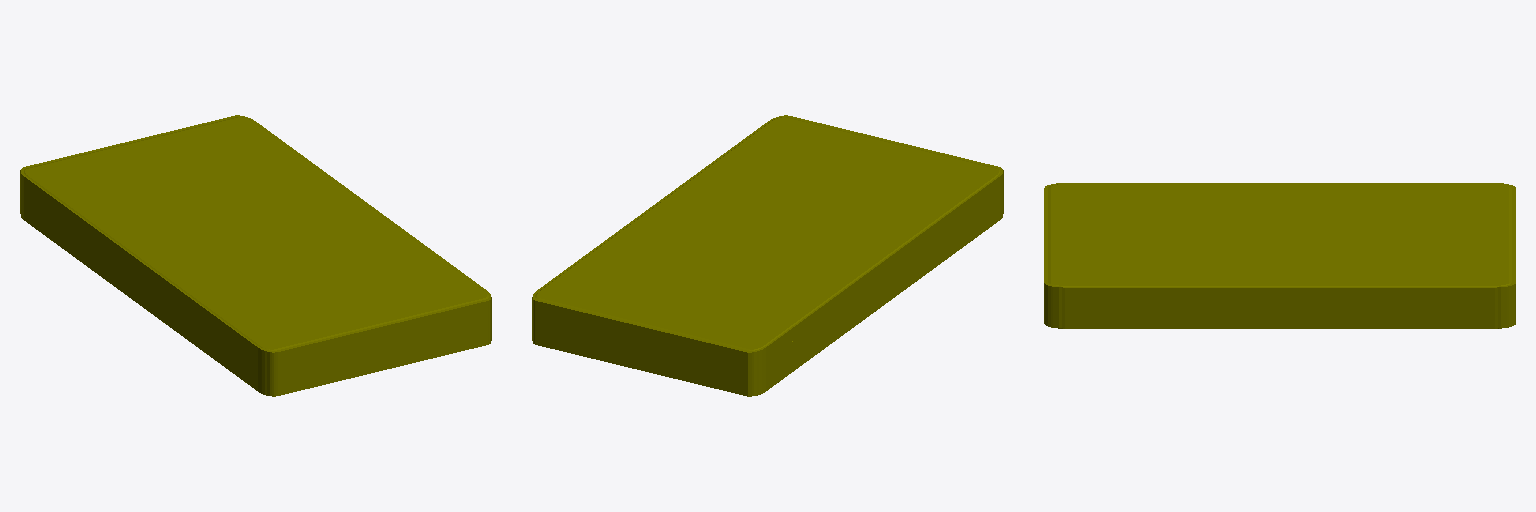
robot.urdf — sponge:
<robot name="sponge">
<link name="baseLink">
    <contact>
        <lateral_friction value="1.0"/>
        <rolling_friction value="0.0"/>
        <contact_cfm value="0.0"/>
        <contact_erp value="1.0"/>
    </contact>
    <inertial>
        <origin rpy="0.0 0.0 0.0" xyz="0.0 0.0 0.0"/>
        <mass value="0.2"/>
        <inertia ixx="1.0" ixy="0.0" ixz="0.0" iyy="1.0" iyz="0.0" izz="1.0"/>
    </inertial>
    <visual>
        <origin rpy="0.0 0.0 0.0" xyz="0.0 0.0 0.0"/>
        <geometry>
            <mesh filename="sponge.obj" scale="1.0 1.0 1.0"/>
        </geometry>
        <material name="red">
            <color rgba="0.5 0.5 0.0 1.0"/>
        </material>
    </visual>
    <collision>
        <origin rpy="0.0 0.0 0.0" xyz="0.0 0.0 0.0"/>
        <geometry>
            <mesh filename="sponge_vhacd.obj" scale="1.0 1.0 1.0"/>
        </geometry>
    </collision>
</link>
</robot>

--- What the picture shows (computed from the rendered views, not written in the file) ---
The picture shows the robot from 3 angles, left to right: view 1: azimuth 30°, elevation 25°; view 2: azimuth 150°, elevation 25°; view 3: azimuth 270°, elevation 25°; orthographic projection.
Model sponge with 1 links and 0 joints (none), rooted at baseLink, posed every joint at zero.
Links seen in each view (by area): view 1: baseLink; view 2: baseLink; view 3: baseLink.
Link boxes in pixels (left/top/right/bottom): baseLink: left=20, top=115, right=491, bottom=396; baseLink: left=532, top=115, right=1003, bottom=396; baseLink: left=1044, top=183, right=1515, bottom=328.
Size in the robot's own frame: 0.0525 by 0.1 by 0.01 metres.
1 mesh visuals loaded from 1 distinct referenced files (1 OBJ).
